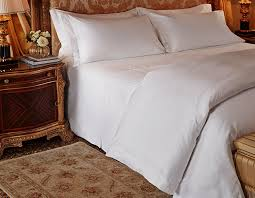bed-matress: (60, 34, 255, 190)
